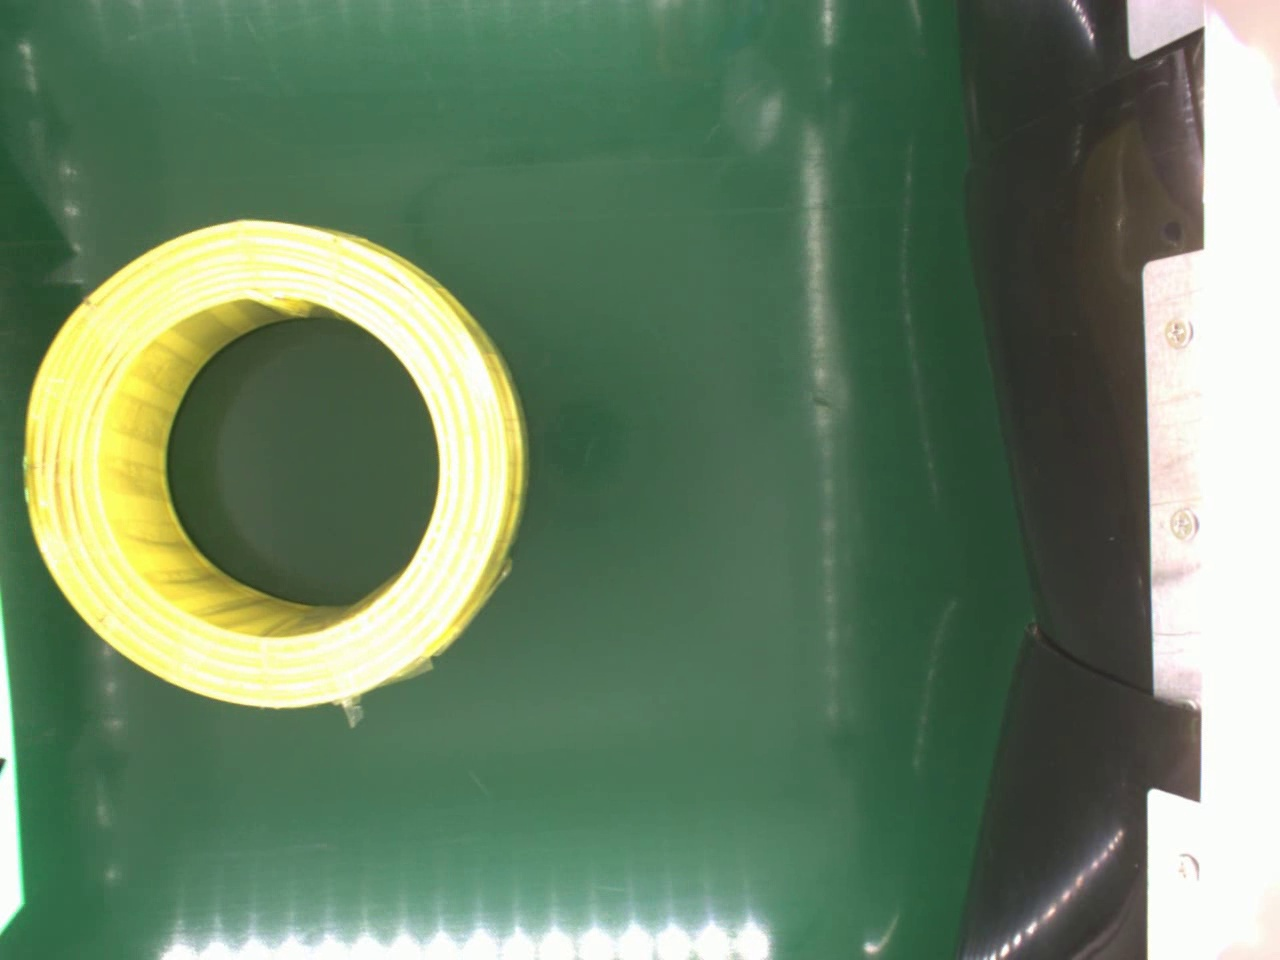yellow: (22, 214, 520, 718)
